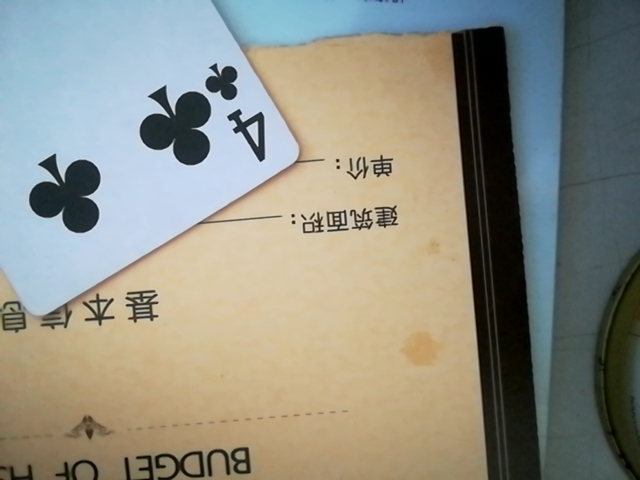mh 4: (0, 0, 300, 326)
